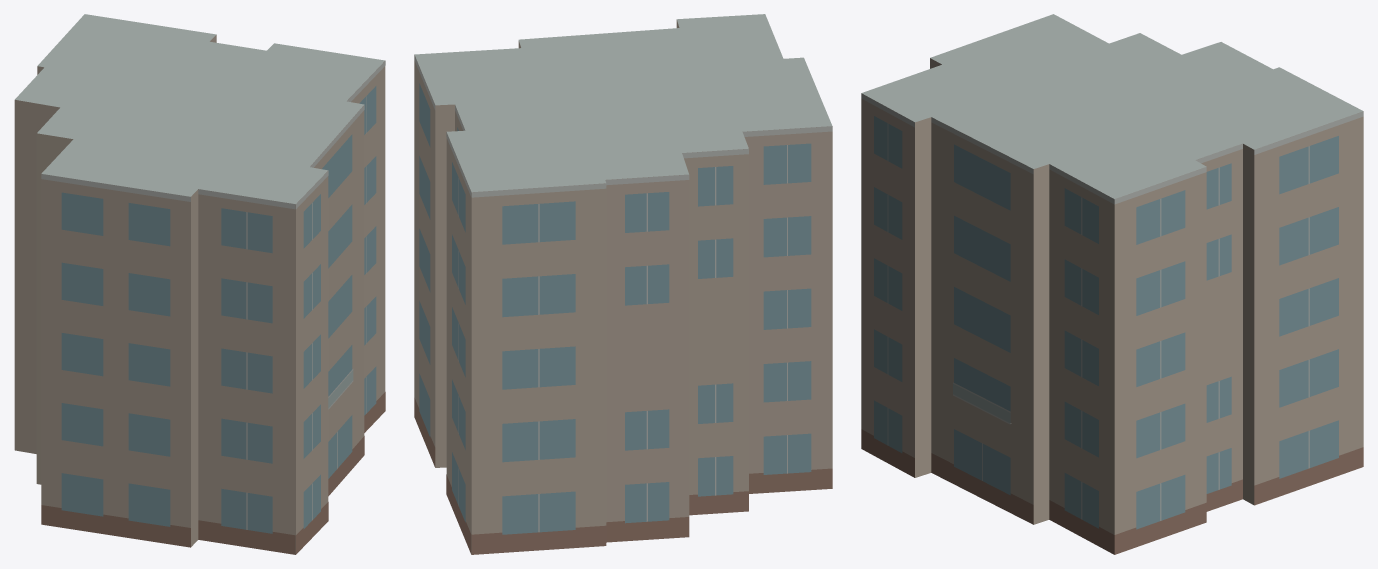
File: survey-upis-32695952.glb
The picture shows the model from 3 angles, left to right: view 1: azimuth 30°, elevation 25°; view 2: azimuth 150°, elevation 25°; view 3: azimuth 270°, elevation 25°; orthographic projection. The views are drawn at different scales.
Visible parts, largest first — view 1: survey-upis-32695952.tmp; view 2: survey-upis-32695952.tmp; view 3: survey-upis-32695952.tmp.
Part boxes in pixels (bbox=[...]): survey-upis-32695952.tmp: bbox=[14, 14, 385, 554]; survey-upis-32695952.tmp: bbox=[414, 14, 832, 554]; survey-upis-32695952.tmp: bbox=[861, 14, 1363, 554].
Size of the model in its own units: 18.21 by 16.3 by 20.87.
